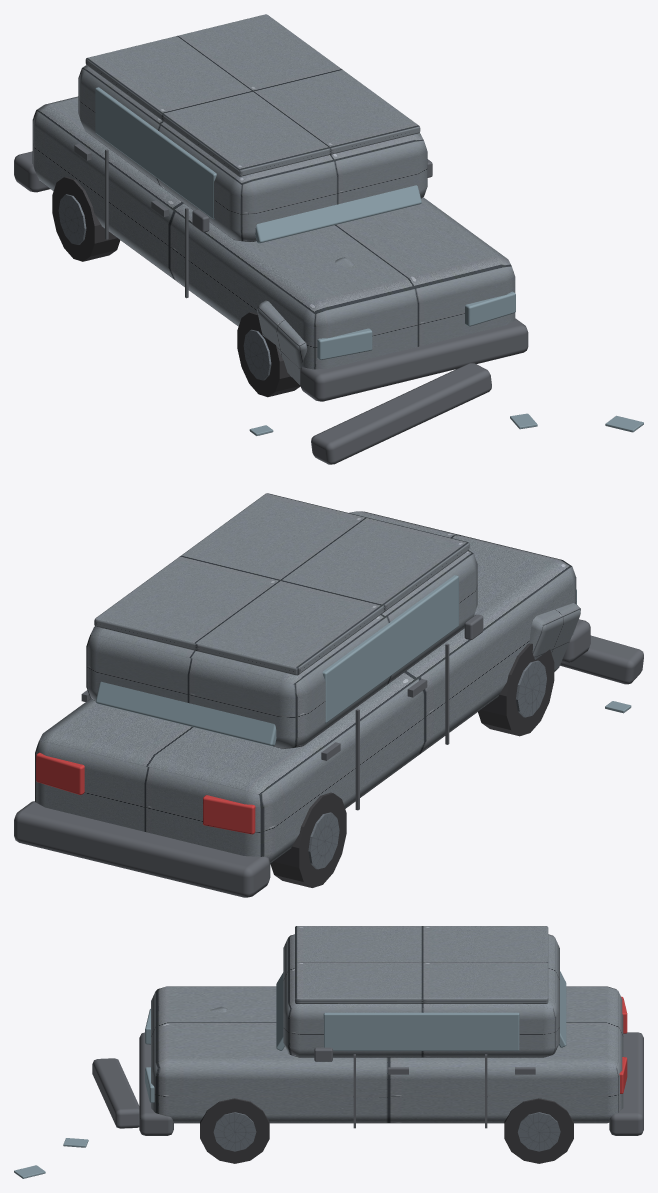
Rendered from fire-and-emergency-services-damaged-car-f38b9a89__29929.glb.
The picture shows the model from 3 angles, top to bottom: view 1: azimuth 30°, elevation 25°; view 2: azimuth 150°, elevation 25°; view 3: azimuth 270°, elevation 25°; orthographic projection. The views are drawn at different scales.
Parts seen in each view (by area): view 1: damaged-car; view 2: damaged-car; view 3: damaged-car.
Part boxes in pixels (x1,y1,x2,y2): damaged-car: (14, 14, 643, 464); damaged-car: (14, 493, 643, 897); damaged-car: (14, 926, 643, 1178).
Bounding box in the file's own units: 2.49 × 1.57 × 5.47.
Materials: 6 (2 with a texture image).
